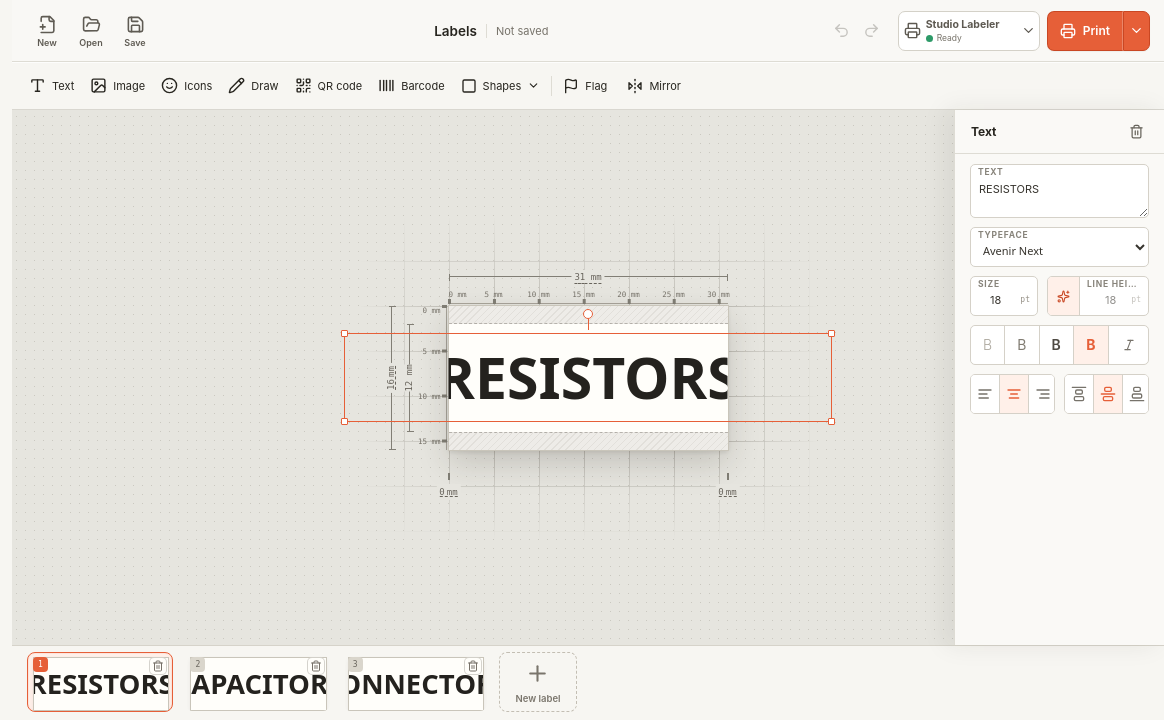
LabelmakerApp › shows calculated canvas guides for 12 mm paper
The width and height of the screenshot is (1164, 720).
Check: the text "Studio Labeler" is shown, box [926,18,1000,31]
Replace the text in the number field named "Plate height" with "12" at (390, 378), box [382,363,398,392]
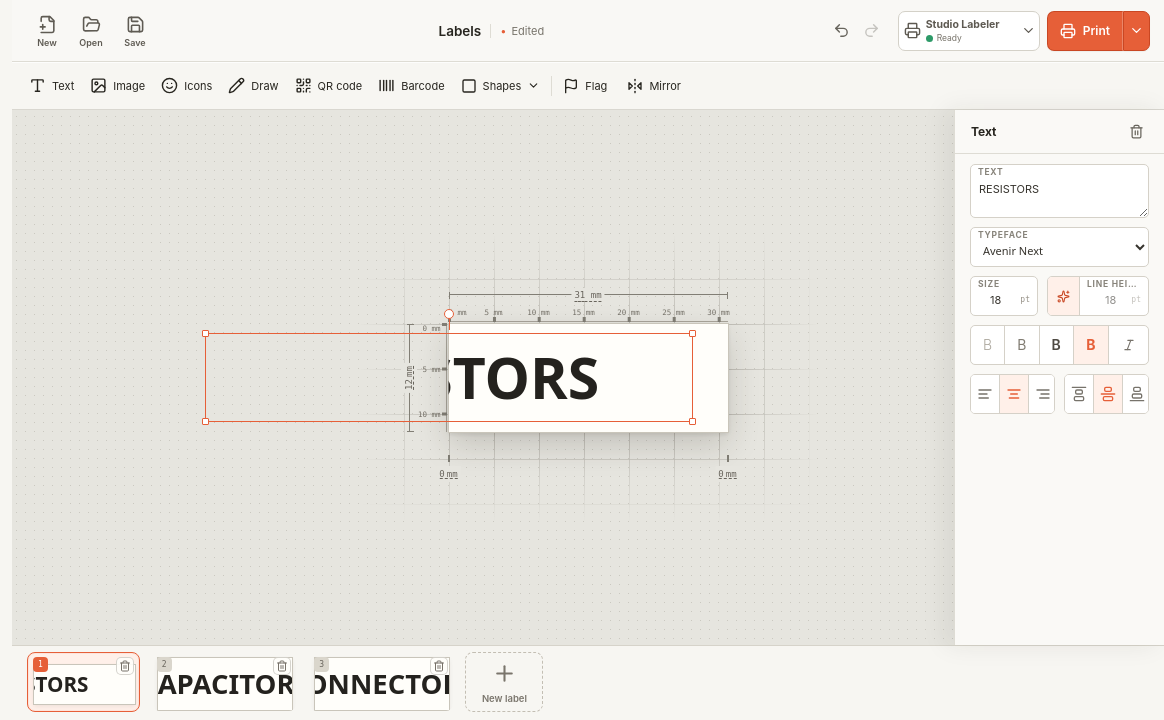
Check: the number field named "Plate height" holds "12", box [400,363,416,392]
Check: the element with class "dimension-ruler-printable-height" is gone
Check: no elements with class "nonprintable-zone" are shown
